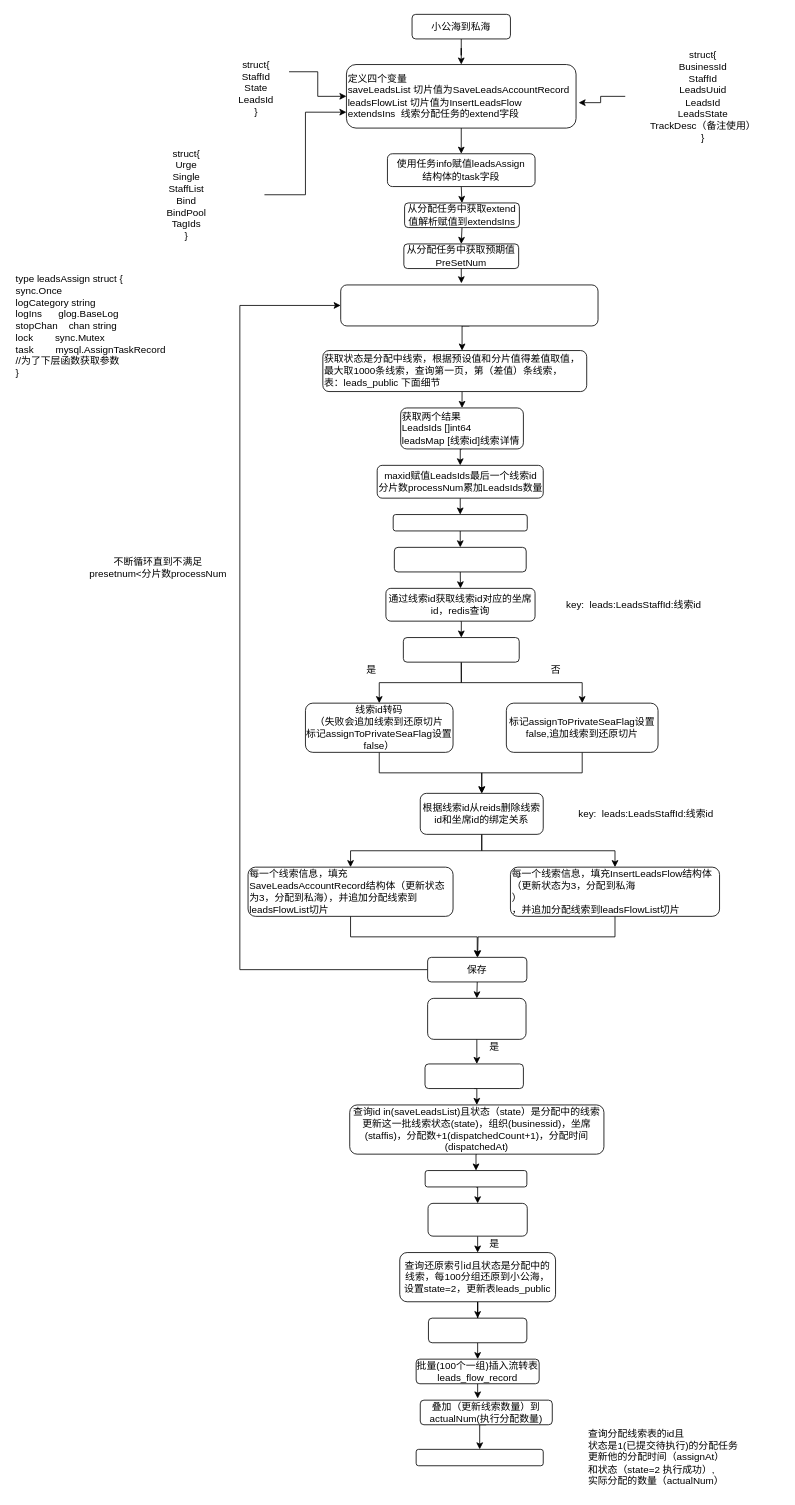
The diagram is 795 pixels wide and 1505 high, and some of its shapes have lost their labels. The box of each missing label's shape, as (x1, y1, x2, y2) in pixels:
for分批处理 判断presetnum<分片数processNum，分片初始0 maxid，初始0，之后记录线索切片列表的最后一个线索id: (340, 284, 598, 326)
leadsFlowList 数量>0: (428, 1317, 527, 1343)
saveLeadsList数量>0: (427, 998, 526, 1039)
初始化分配标记为true assignToPrivateSeaFlag: (394, 547, 526, 572)
判断还原线索是否bindIds>0: (427, 1203, 527, 1236)
执行分配: (424, 1063, 523, 1089)
是否可以查询出坐席id: (403, 637, 519, 662)
更新leads_assign_record表: (415, 1449, 543, 1466)
返回线索数量: (424, 1170, 527, 1187)
遍历 LeadsIds 分配中的线索: (392, 514, 527, 531)
